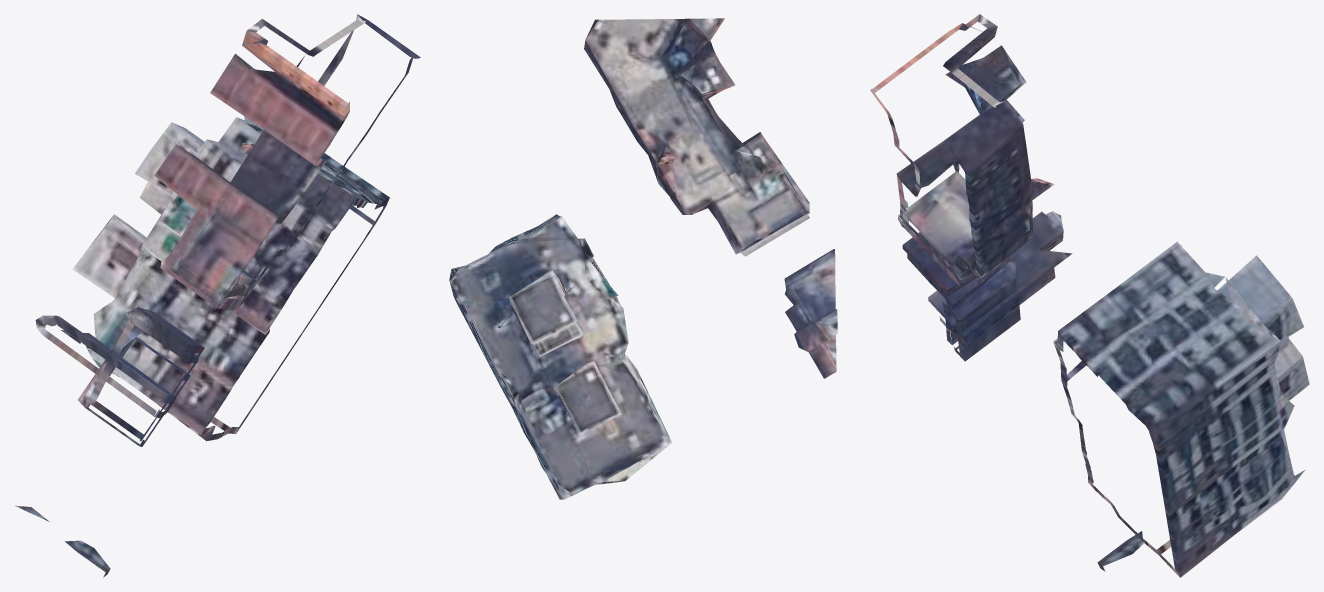
3 views of the same model, side by side, from view 1: azimuth 30°, elevation 25°; view 2: azimuth 150°, elevation 25°; view 3: azimuth 270°, elevation 25° (orthographic). The views are drawn at different scales.
Size of the model in its own units: 55.65 by 76.46 by 50.85.
1 material, 1 textured.
